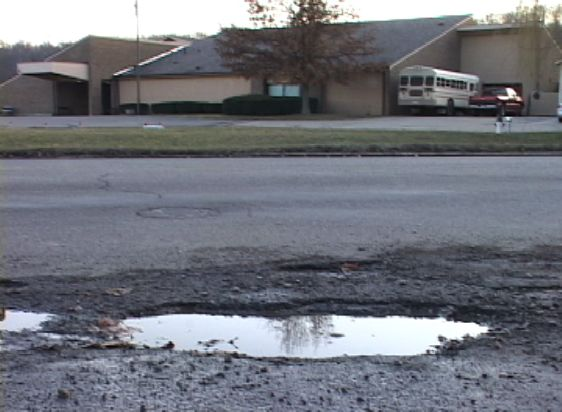pothole: (105, 302, 498, 363)
